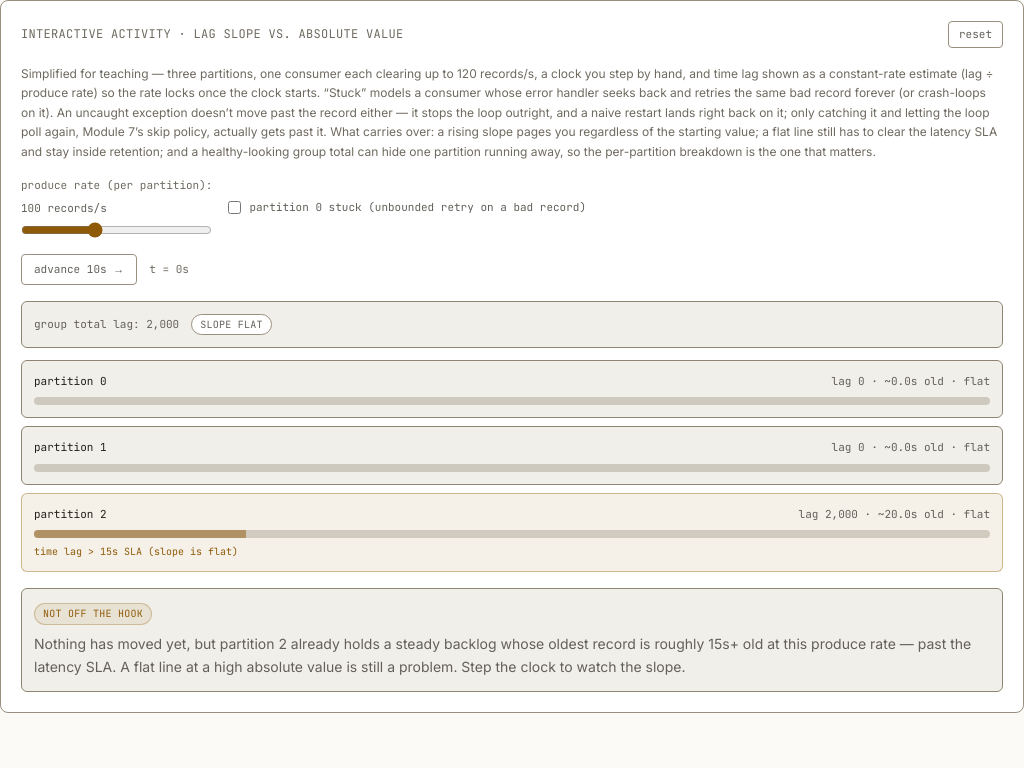
LagSlopeVsAbsolute › producing above the consume ceiling climbs every partition — more consumers can't help
Step 1. Set the slider named "produce rate per partition" to "160" → (161, 230), box [21,222,212,238]
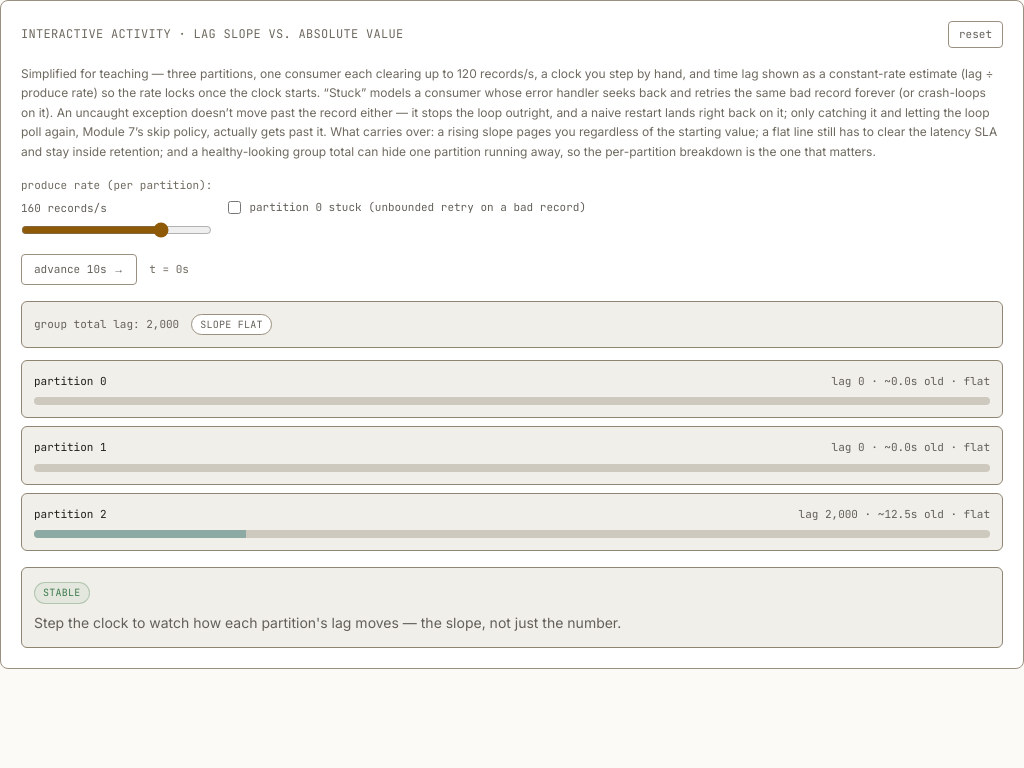
Step 2. Click the button "advance 10s →" → click(79, 269), box [21,254,137,284]
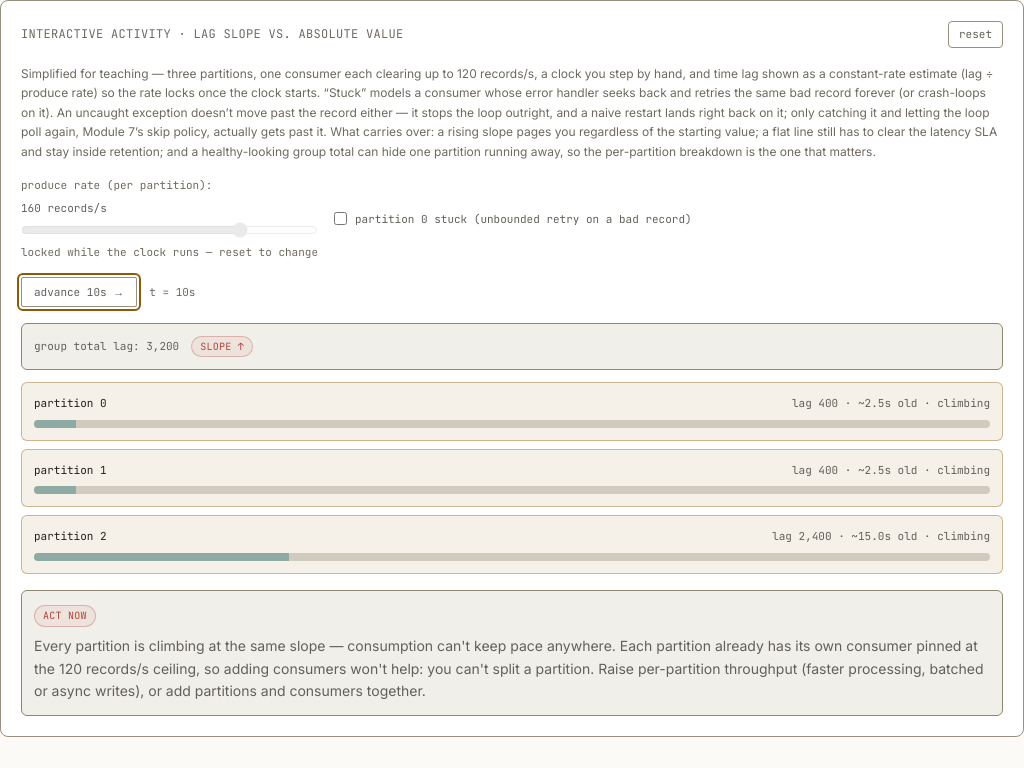
expect the text with test id "lag-verdict" shows "consumption can't keep pace anywhere": met, box [34,637,984,699]
expect the text with test id "lag-verdict" shows "adding consumers won't help: you can't split a partition": met, box [34,637,984,699]
